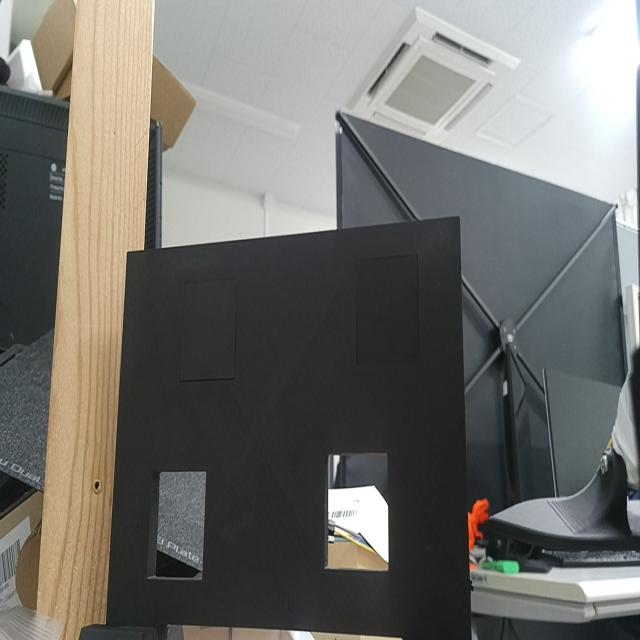Obstacle: (325, 452, 389, 571), (148, 470, 207, 578)
Wall: (107, 215, 472, 639)
